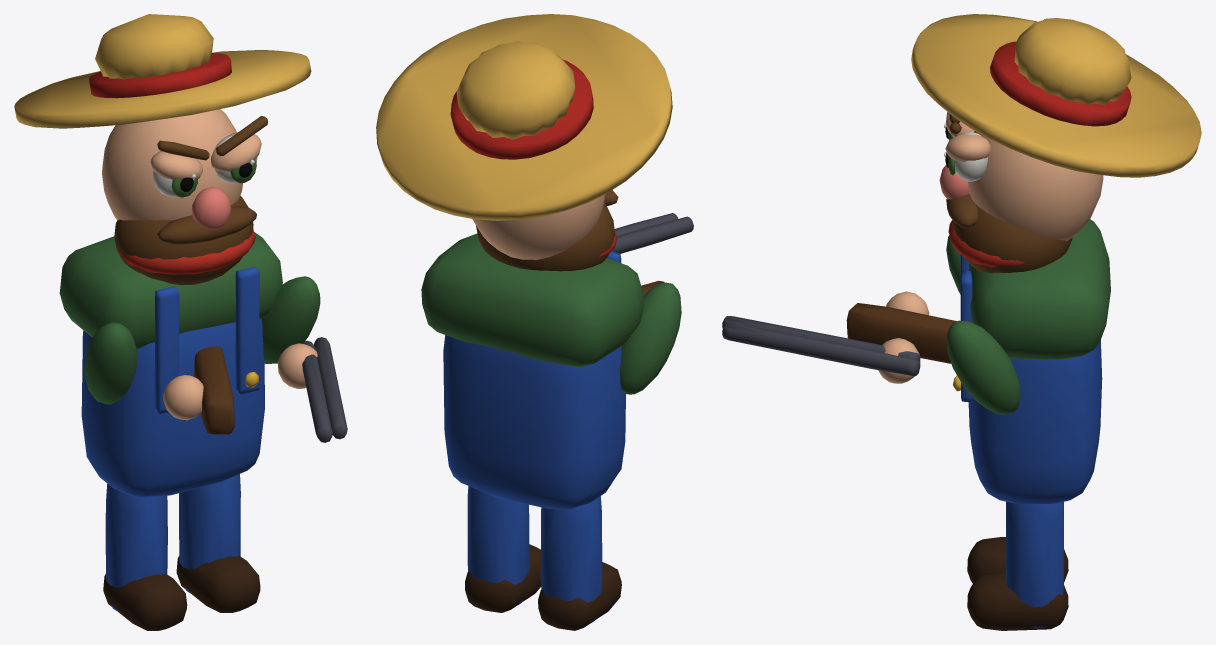
Rendered from BauerHeinz.fbx.
3 views of the same model, side by side, from view 1: azimuth 30°, elevation 25°; view 2: azimuth 150°, elevation 25°; view 3: azimuth 270°, elevation 25° (orthographic).
Parts seen in each view (by area): view 1: BauerHeinz; view 2: BauerHeinz; view 3: BauerHeinz.
Boxes of the visible parts, <box> form: BauerHeinz: <box>14,14,347,630</box>; BauerHeinz: <box>376,14,693,630</box>; BauerHeinz: <box>722,14,1201,630</box>.
Size of the model in its own units: 0.7063 by 1.5 by 1.12.
